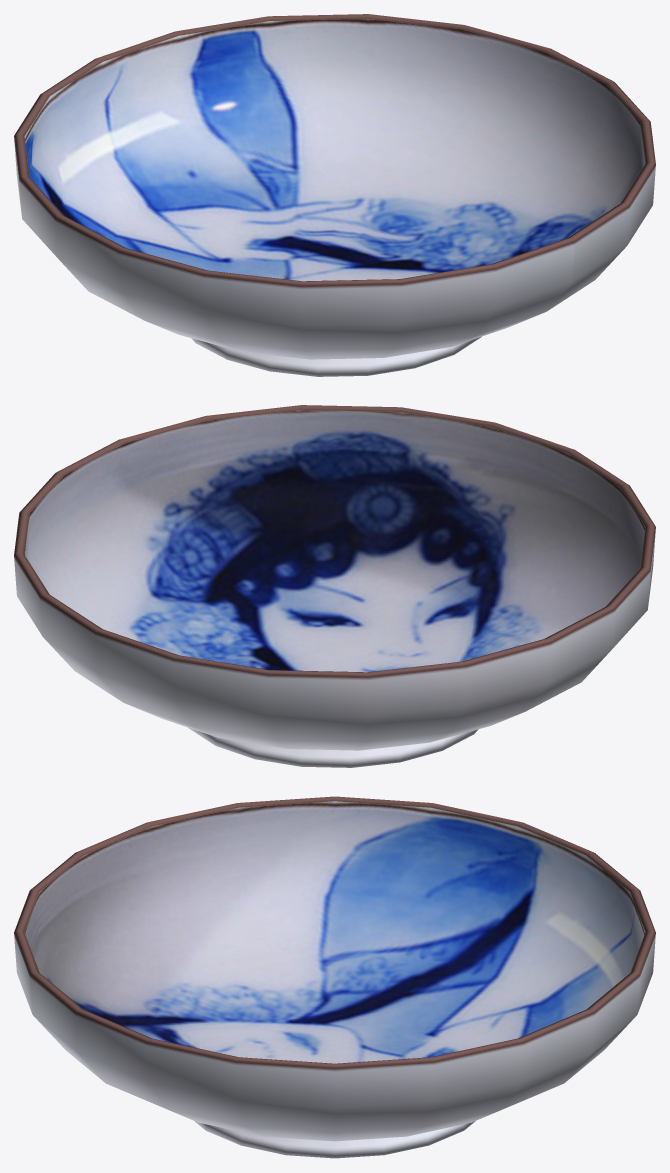
Rendered from wan02_01.FBX.
The picture shows the model from 3 angles, top to bottom: view 1: azimuth 30°, elevation 25°; view 2: azimuth 150°, elevation 25°; view 3: azimuth 270°, elevation 25°; orthographic projection.
Visible parts, largest first — view 1: pCylinder002; view 2: pCylinder002; view 3: pCylinder002.
Part boxes in pixels (x1,y1,x2,y2): pCylinder002: [14, 14, 655, 376]; pCylinder002: [14, 405, 655, 767]; pCylinder002: [14, 796, 655, 1158].
Size of the model in its own units: 153 by 42.35 by 153.
